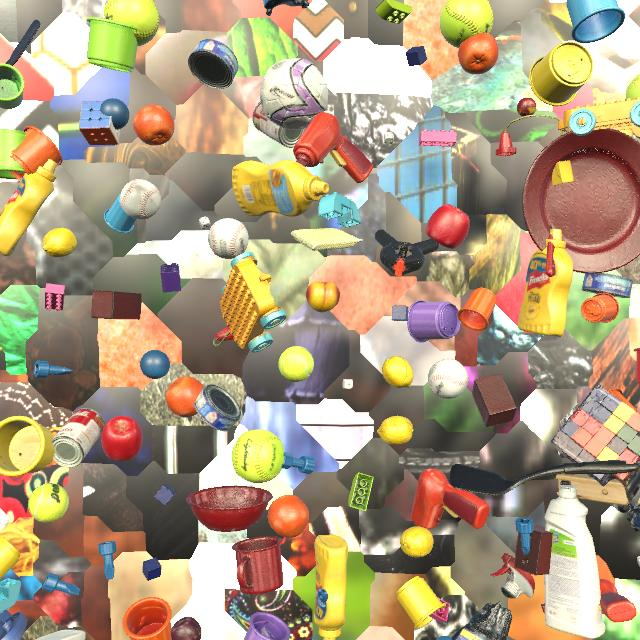ycb_005_tomato_soup_can: (52, 408, 105, 468), (253, 101, 306, 148)
ycb_006_mustard_bottle: (518, 229, 573, 337), (0, 159, 57, 256), (232, 160, 329, 217), (314, 534, 348, 640)
ycb_007_tuna_fish_can: (188, 39, 238, 89), (193, 384, 241, 432), (581, 273, 633, 298)
ycb_013_apple: (426, 204, 470, 249), (101, 416, 143, 461)
ycb_014_lemon: (400, 526, 434, 558), (377, 416, 414, 445), (42, 228, 77, 258), (382, 356, 414, 388)
ycb_015_peach: (306, 281, 340, 312)
ycb_017_orange: (133, 104, 175, 146), (268, 495, 309, 538), (458, 33, 499, 75), (165, 376, 204, 417)
ycb_018_plum: (171, 617, 202, 640)
